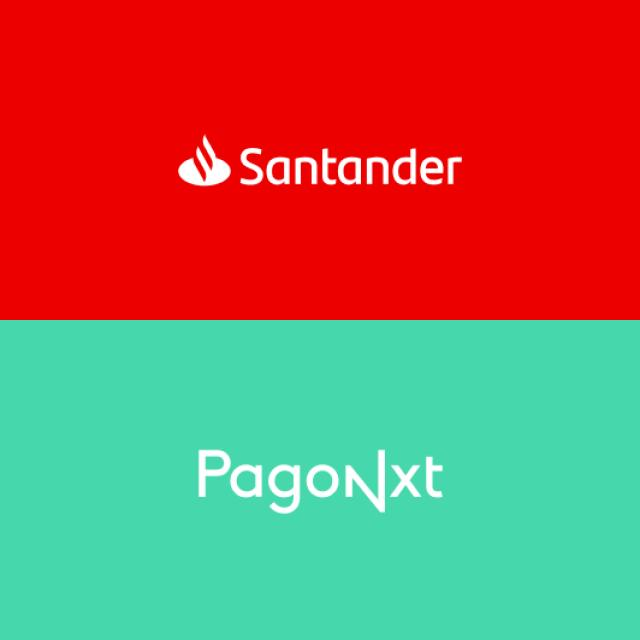pago_nxt: (196, 447, 443, 514)
santander: (178, 135, 232, 187)
